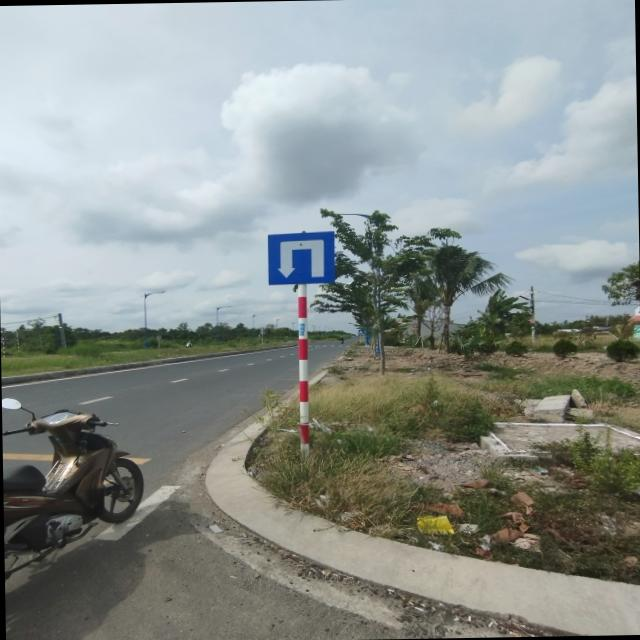Den_Giao_Thong: (268, 230, 336, 286)
